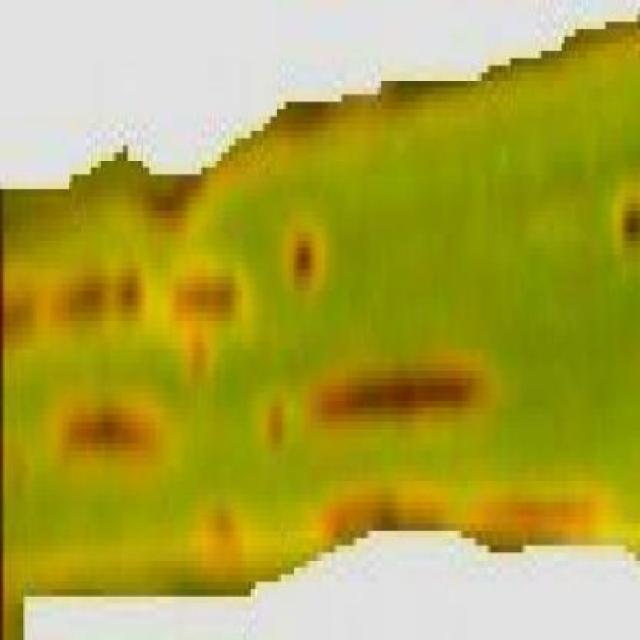Leaf_Blast: (307, 322, 498, 433), (463, 455, 615, 559), (321, 464, 456, 554), (46, 382, 174, 473), (42, 261, 152, 336), (22, 535, 144, 596), (278, 170, 330, 298), (192, 474, 248, 592), (171, 258, 251, 327), (3, 266, 51, 354), (606, 145, 640, 261), (178, 307, 220, 398), (257, 359, 292, 461), (3, 395, 31, 520), (1, 540, 21, 640), (382, 84, 436, 116), (538, 55, 568, 111), (494, 68, 518, 126)
